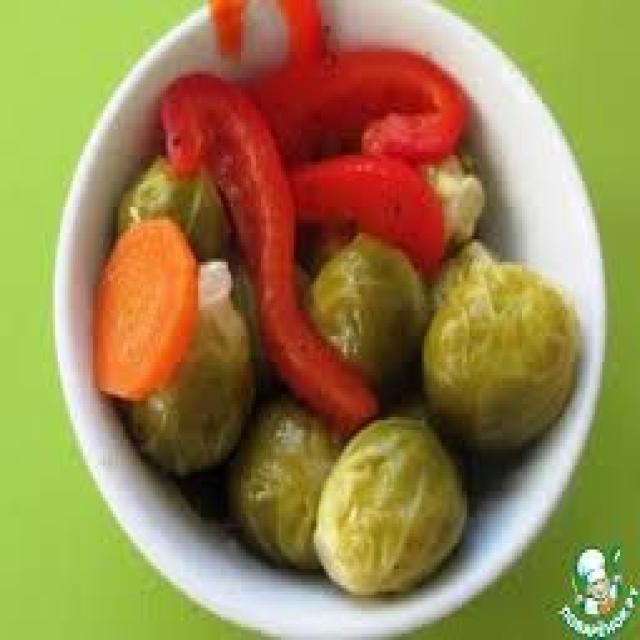Bell pepper: (158, 70, 386, 440), (216, 32, 476, 152), (208, 0, 342, 81)
Carrot: (83, 195, 196, 409)
choux de bruxelles: (324, 401, 469, 636), (137, 278, 276, 503), (289, 196, 436, 389), (418, 248, 556, 443), (230, 385, 332, 561), (140, 160, 231, 269)
